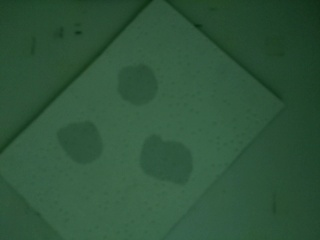Water_detected: (154, 147, 192, 180), (69, 127, 97, 165), (124, 72, 150, 100)
